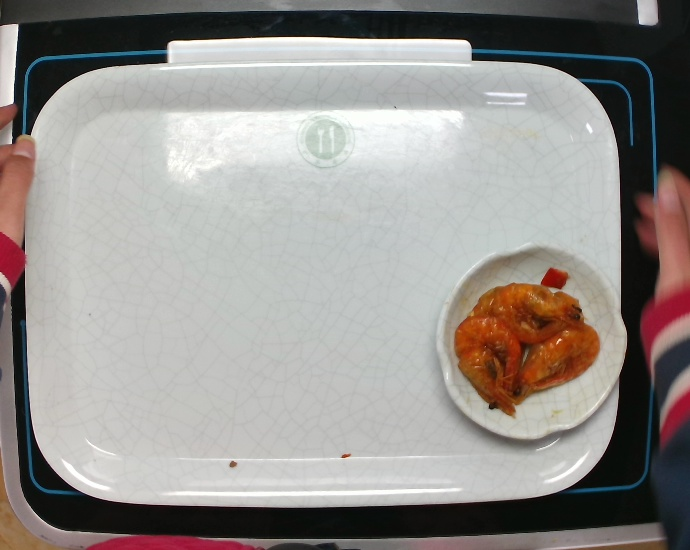JYsf-Ao_Yuan_Wan: (435, 243, 629, 446)
